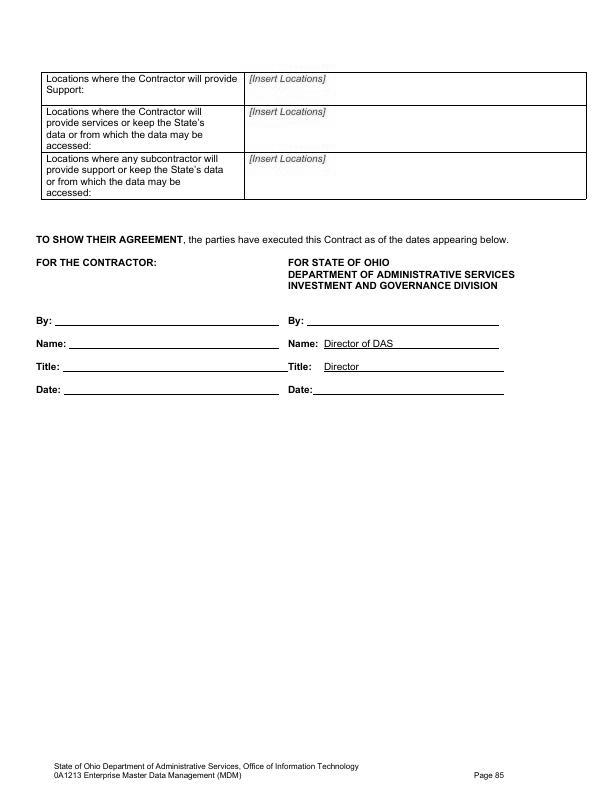input: (67, 333, 282, 355), (63, 381, 280, 401), (57, 312, 281, 331), (314, 381, 508, 401), (324, 355, 508, 376), (306, 313, 501, 330), (63, 361, 285, 375), (325, 335, 504, 352)
table: (38, 66, 590, 206)
text: (285, 255, 523, 297), (32, 228, 513, 248), (49, 758, 367, 779), (32, 253, 163, 271), (470, 765, 510, 784), (32, 335, 67, 352), (32, 381, 61, 399), (286, 382, 313, 399), (32, 357, 62, 372), (286, 338, 318, 352), (285, 358, 314, 372), (32, 312, 54, 328), (288, 315, 305, 329)
